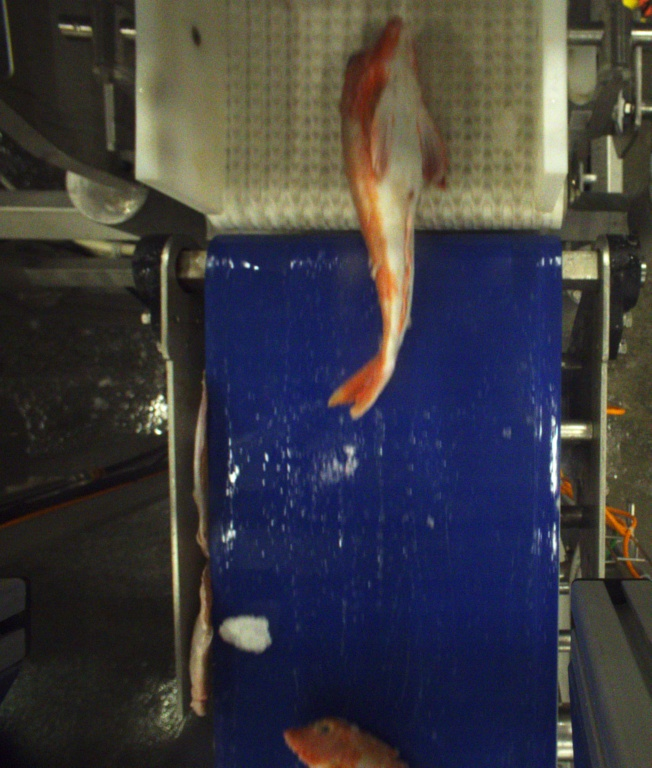GUU: (328, 17, 449, 419)
